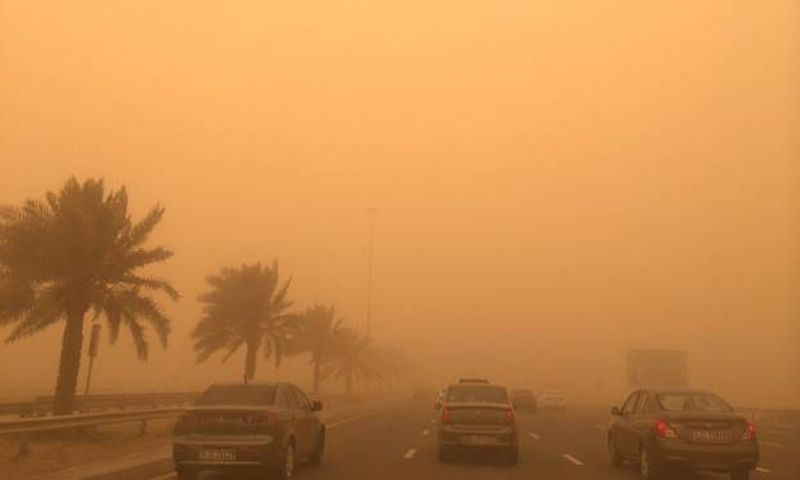car: (172, 382, 325, 479), (602, 386, 758, 479), (435, 383, 517, 459), (512, 387, 537, 412), (537, 389, 566, 409)
